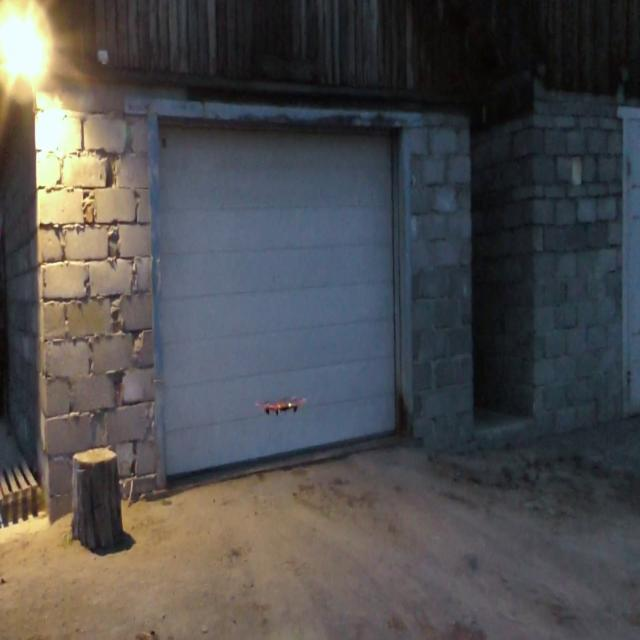Drons: (252, 393, 306, 418)
